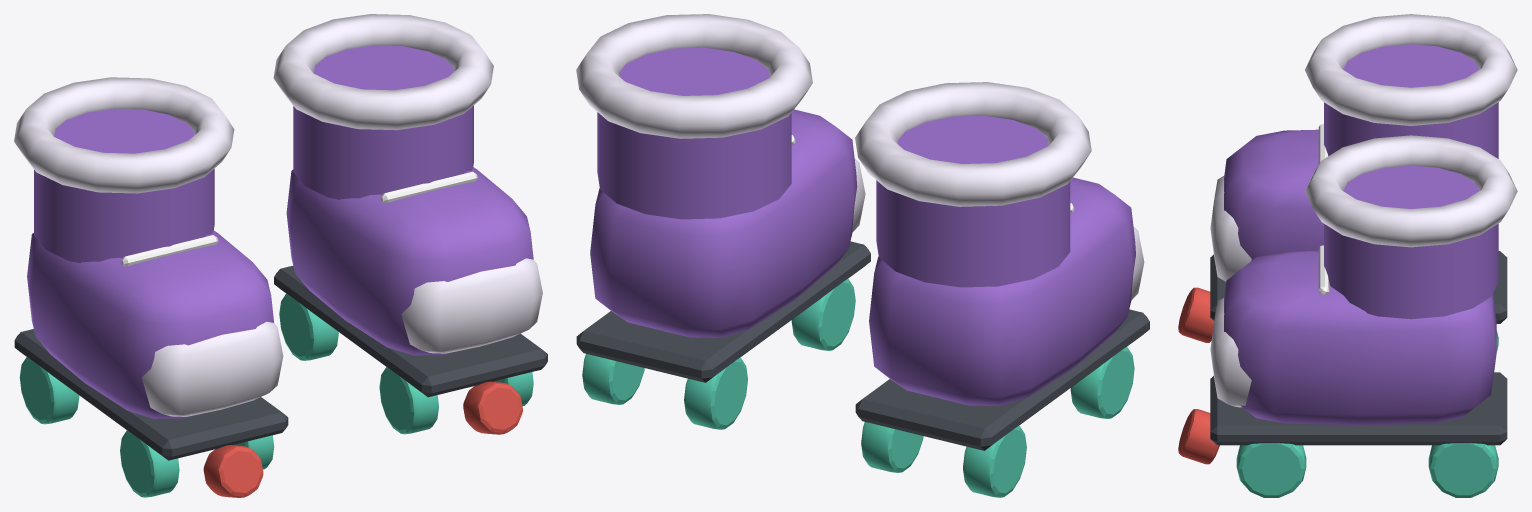
File: patins.glb
3 views of the same model, side by side, from view 1: azimuth 30°, elevation 25°; view 2: azimuth 150°, elevation 25°; view 3: azimuth 270°, elevation 25° (orthographic). The views are drawn at different scales.
Visible parts, largest first — view 1: patim-dir, patim-esq; view 2: patim-esq, patim-dir; view 3: patim-esq, patim-dir.
Boxes of the visible parts, x1=… form: patim-dir: x1=14, y1=77, x2=288, y2=497; patim-esq: x1=273, y1=14, x2=547, y2=434; patim-esq: x1=576, y1=14, x2=870, y2=429; patim-dir: x1=855, y1=82, x2=1149, y2=497; patim-esq: x1=1178, y1=135, x2=1517, y2=497; patim-dir: x1=1178, y1=14, x2=1517, y2=351.
Bounding box in the file's own units: 0.5729 × 0.373 × 0.3889.
